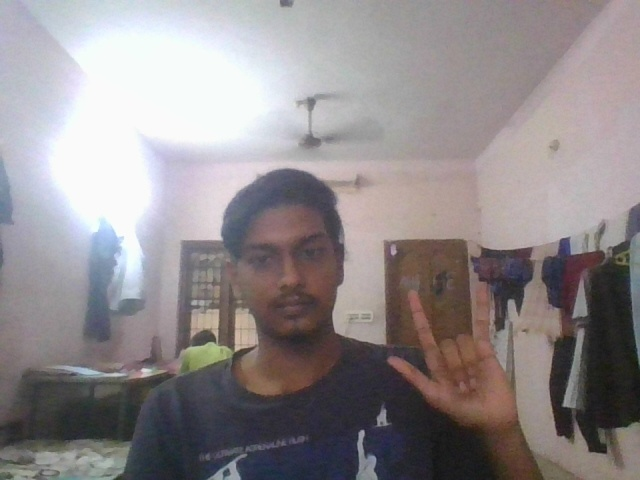iloveyou: (383, 285, 514, 429)
